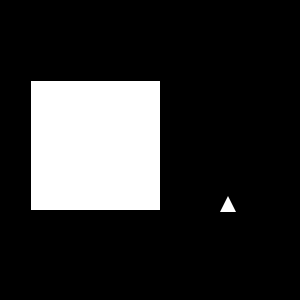circle: (31, 81, 160, 210)
triangle: (220, 196, 236, 212)
